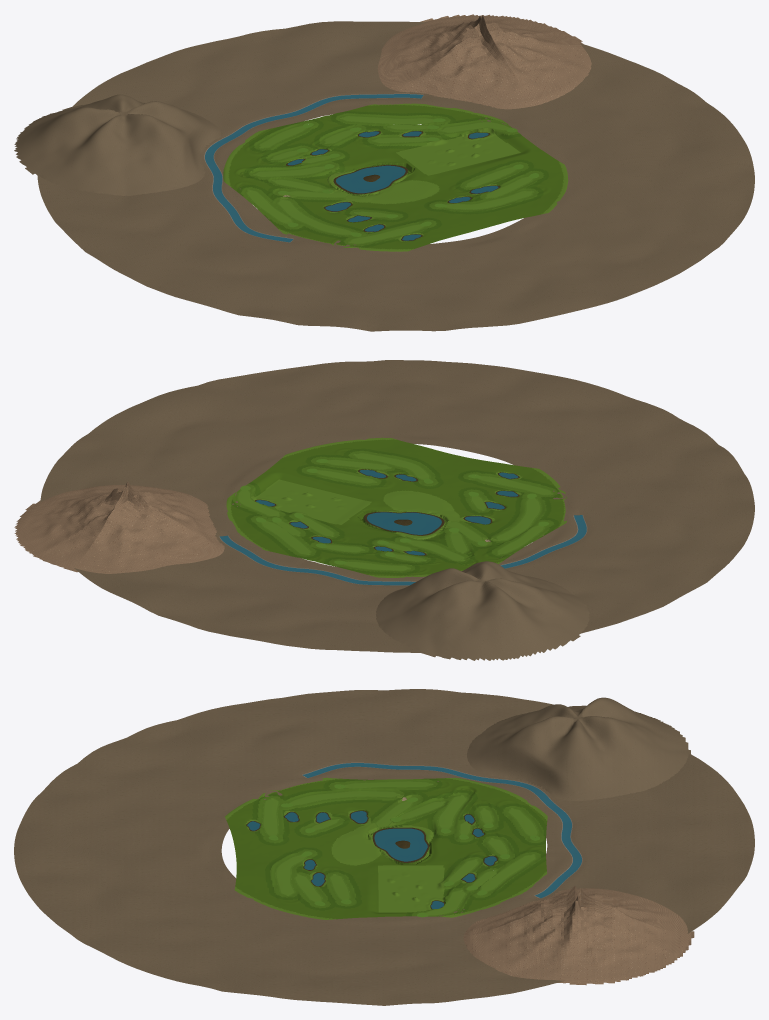
Rendered from course_visual.glb.
The picture shows the model from 3 angles, top to bottom: view 1: azimuth 30°, elevation 25°; view 2: azimuth 150°, elevation 25°; view 3: azimuth 270°, elevation 25°; orthographic projection. The views are drawn at different scales.
Parts seen in each view (by area): view 1: Forest_Perimeter_Terrain_360, Mountain_02_Rocky_Alpine_NE, Mountain_01_Forested_NW, Rough_Tier4_Native_GG06, Rough_Tier2_Primary_GG04, Conceptual_Terrain_100ha, Rough_Tier3_Heavy_GG05, Forest_River_Water_Flow, Central_Lake_Optical_Water_Surface, Forest_River_Channel_Bed, Fairway_02_Turf_GG02; view 2: Forest_Perimeter_Terrain_360, Mountain_01_Forested_NW, Mountain_02_Rocky_Alpine_NE, Rough_Tier4_Native_GG06, Conceptual_Terrain_100ha, Rough_Tier2_Primary_GG04, Rough_Tier3_Heavy_GG05, Forest_River_Water_Flow, Central_Lake_Optical_Water_Surface, Forest_River_Channel_Bed, Fairway_02_Turf_GG02, Fairway_18_Turf_GG02; view 3: Forest_Perimeter_Terrain_360, Mountain_02_Rocky_Alpine_NE, Mountain_01_Forested_NW, Rough_Tier4_Native_GG06, Rough_Tier2_Primary_GG04, Conceptual_Terrain_100ha, Rough_Tier3_Heavy_GG05, Forest_River_Water_Flow, Central_Lake_Optical_Water_Surface, Forest_River_Channel_Bed, Fairway_02_Turf_GG02, Fairway_09_Turf_GG02 (+1 smaller).
Boxes of the visible parts, x1=… form: Forest_Perimeter_Terrain_360: x1=37, y1=21, x2=754, y2=331; Mountain_02_Rocky_Alpine_NE: x1=377, y1=14, x2=591, y2=109; Mountain_01_Forested_NW: x1=14, y1=94, x2=221, y2=195; Rough_Tier4_Native_GG06: x1=228, y1=105, x2=563, y2=249; Rough_Tier2_Primary_GG04: x1=240, y1=113, x2=544, y2=246; Conceptual_Terrain_100ha: x1=223, y1=103, x2=568, y2=251; Rough_Tier3_Heavy_GG05: x1=236, y1=111, x2=549, y2=247; Forest_River_Water_Flow: x1=205, y1=94, x2=423, y2=242; Central_Lake_Optical_Water_Surface: x1=336, y1=165, x2=405, y2=193; Forest_River_Channel_Bed: x1=204, y1=93, x2=423, y2=242; Fairway_02_Turf_GG02: x1=278, y1=199, x2=352, y2=234; Forest_Perimeter_Terrain_360: x1=40, y1=360, x2=754, y2=653; Mountain_01_Forested_NW: x1=376, y1=561, x2=589, y2=660; Mountain_02_Rocky_Alpine_NE: x1=14, y1=481, x2=224, y2=573; Rough_Tier4_Native_GG06: x1=230, y1=439, x2=564, y2=576; Conceptual_Terrain_100ha: x1=226, y1=437, x2=566, y2=577; Rough_Tier2_Primary_GG04: x1=232, y1=450, x2=557, y2=572; Rough_Tier3_Heavy_GG05: x1=231, y1=448, x2=561, y2=575; Forest_River_Water_Flow: x1=220, y1=515, x2=586, y2=585; Central_Lake_Optical_Water_Surface: x1=367, y1=512, x2=441, y2=534; Forest_River_Channel_Bed: x1=219, y1=515, x2=587, y2=585; Fairway_02_Turf_GG02: x1=497, y1=498, x2=539, y2=540; Fairway_18_Turf_GG02: x1=355, y1=453, x2=428, y2=479; Forest_Perimeter_Terrain_360: x1=14, y1=689, x2=754, y2=1005; Mountain_02_Rocky_Alpine_NE: x1=463, y1=885, x2=694, y2=985; Mountain_01_Forested_NW: x1=467, y1=697, x2=690, y2=800; Rough_Tier4_Native_GG06: x1=226, y1=778, x2=547, y2=919; Rough_Tier2_Primary_GG04: x1=257, y1=779, x2=544, y2=916; Conceptual_Terrain_100ha: x1=225, y1=777, x2=547, y2=919; Rough_Tier3_Heavy_GG05: x1=251, y1=778, x2=546, y2=916; Forest_River_Water_Flow: x1=303, y1=763, x2=581, y2=898; Central_Lake_Optical_Water_Surface: x1=374, y1=828, x2=427, y2=861; Forest_River_Channel_Bed: x1=302, y1=762, x2=582, y2=898; Fairway_02_Turf_GG02: x1=289, y1=791, x2=397, y2=805; Fairway_09_Turf_GG02: x1=481, y1=855, x2=535, y2=891.
Bounding box in the file's own units: 2240 × 201 × 2240.
Materials: 24 (13 with a texture image).
